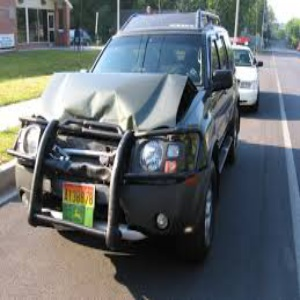bonnet: (44, 69, 186, 128)
